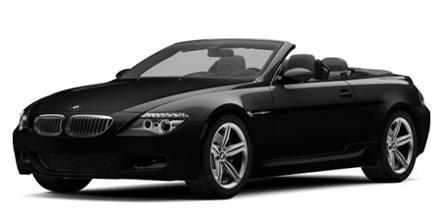car: (13, 37, 433, 200)
